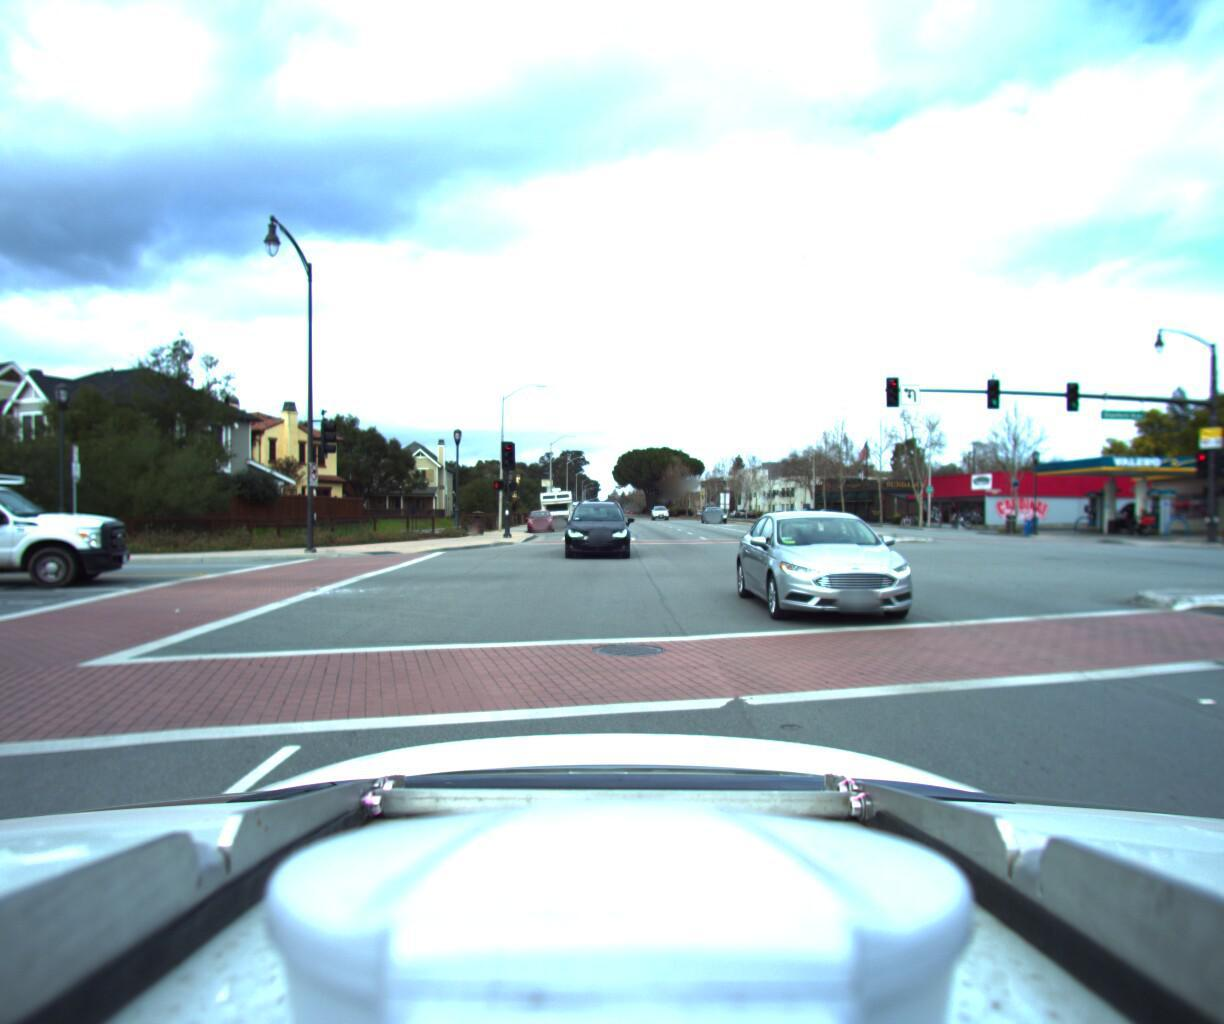car: (746, 500, 977, 645), (0, 459, 141, 596), (558, 493, 623, 554), (1079, 495, 1152, 525), (528, 501, 553, 526)
motorcycle: (1118, 501, 1156, 529)
other_vehicle: (536, 480, 573, 520)
